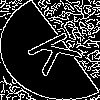K: (24, 25, 94, 78)
